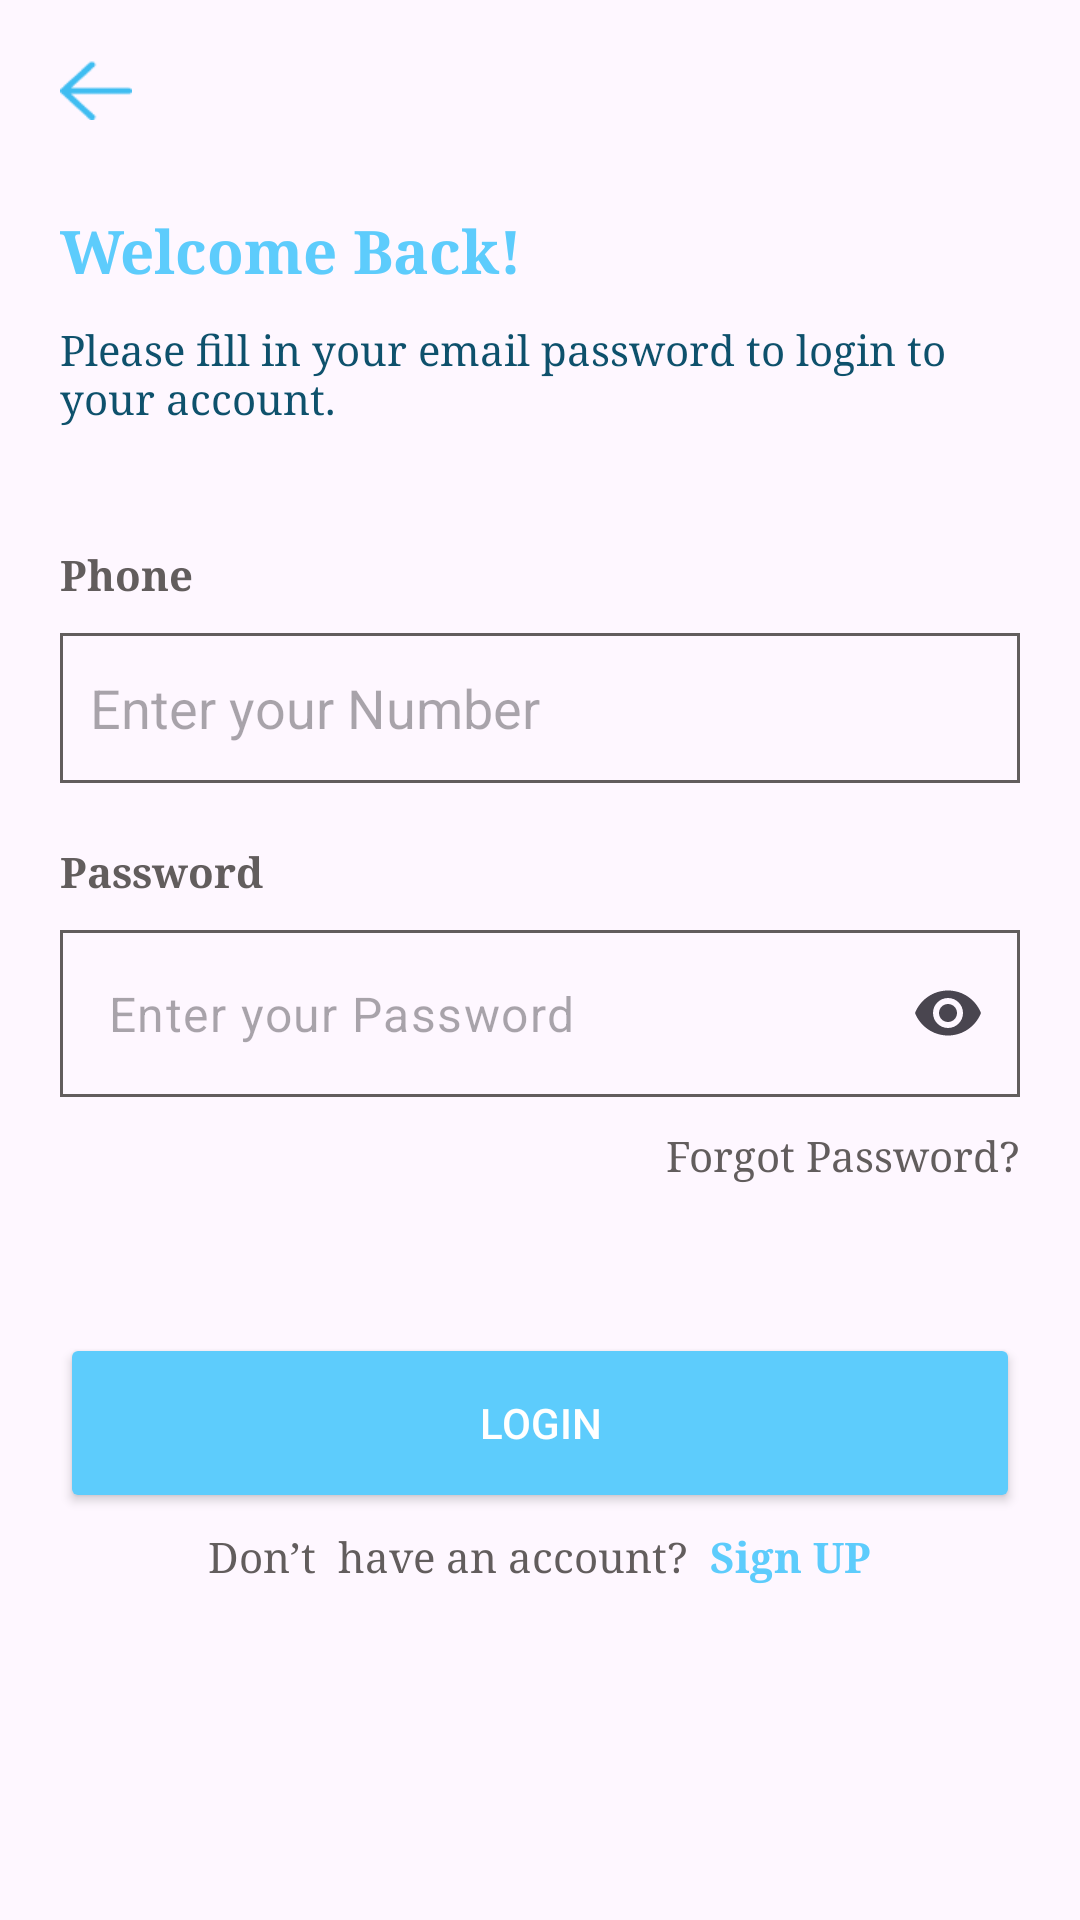

Where icons sit on this 1080w x 1920h app screen, as (x1, y1, x2, y2):
back arrow: (60, 61, 132, 120)
